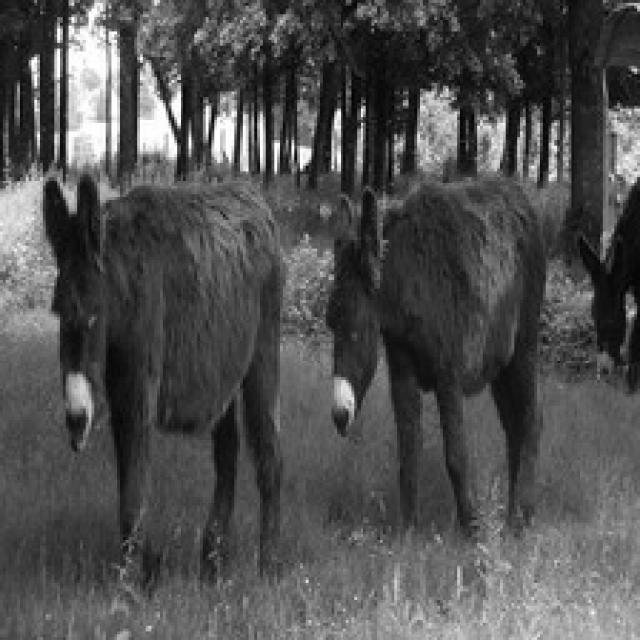Donkey: (40, 169, 286, 600), (323, 174, 546, 540), (574, 169, 637, 394)
